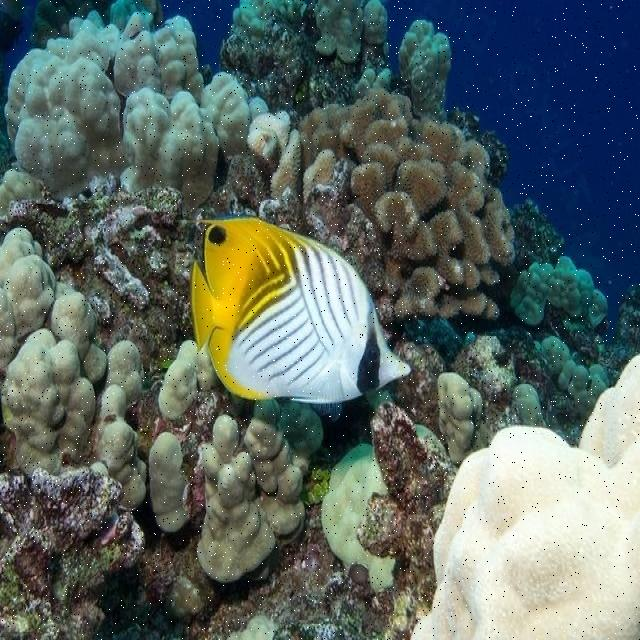fish: (190, 215, 412, 406)
reefs: (409, 355, 639, 639), (248, 87, 518, 321), (0, 0, 268, 216), (0, 227, 147, 514), (194, 399, 328, 585), (318, 444, 396, 593), (231, 0, 388, 64), (510, 254, 607, 327), (399, 17, 455, 122), (538, 335, 609, 416), (436, 371, 494, 465), (159, 340, 216, 418), (147, 436, 191, 530), (513, 385, 546, 426), (356, 67, 390, 95)
